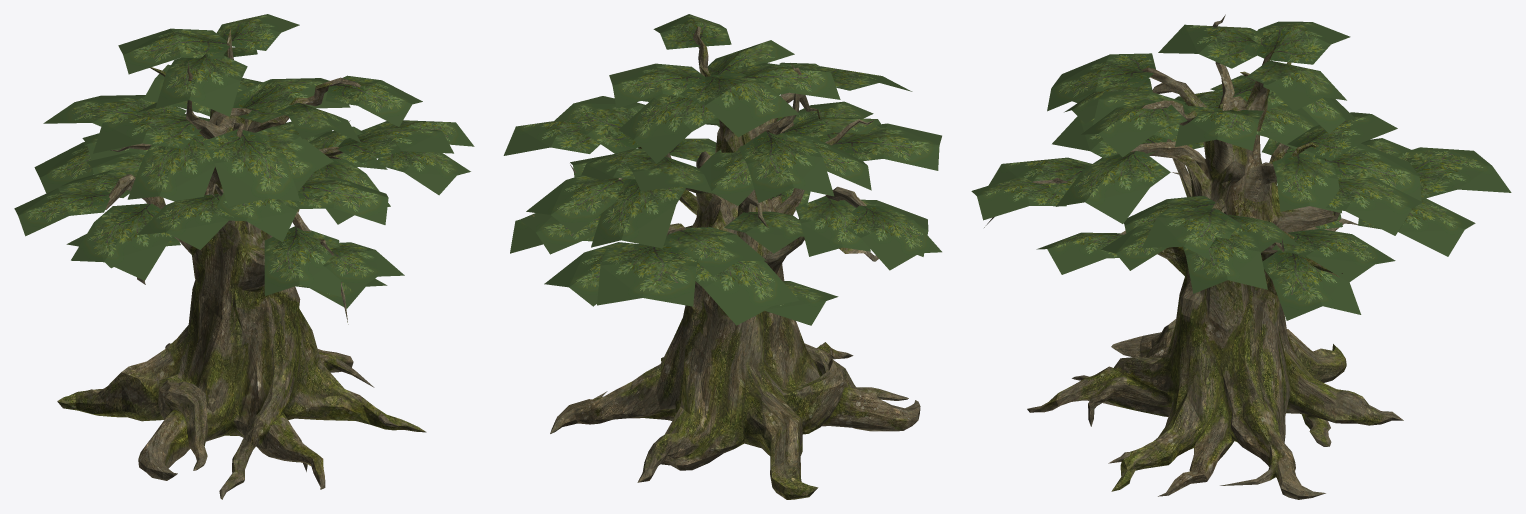
File: bg_anh_tree_a_mist01_ysi.FBX
3 views of the same model, side by side, from view 1: azimuth 30°, elevation 25°; view 2: azimuth 150°, elevation 25°; view 3: azimuth 270°, elevation 25° (orthographic). The views are drawn at different scales.
Visible parts, largest first — view 1: bg_anh_tree_a_mist01_ysi; view 2: bg_anh_tree_a_mist01_ysi; view 3: bg_anh_tree_a_mist01_ysi.
Boxes of the visible parts, bbox=[...] form: bg_anh_tree_a_mist01_ysi: bbox=[14, 14, 474, 499]; bg_anh_tree_a_mist01_ysi: bbox=[503, 14, 941, 499]; bg_anh_tree_a_mist01_ysi: bbox=[971, 14, 1511, 499].
Size of the model in its own units: 573 by 493 by 611.
